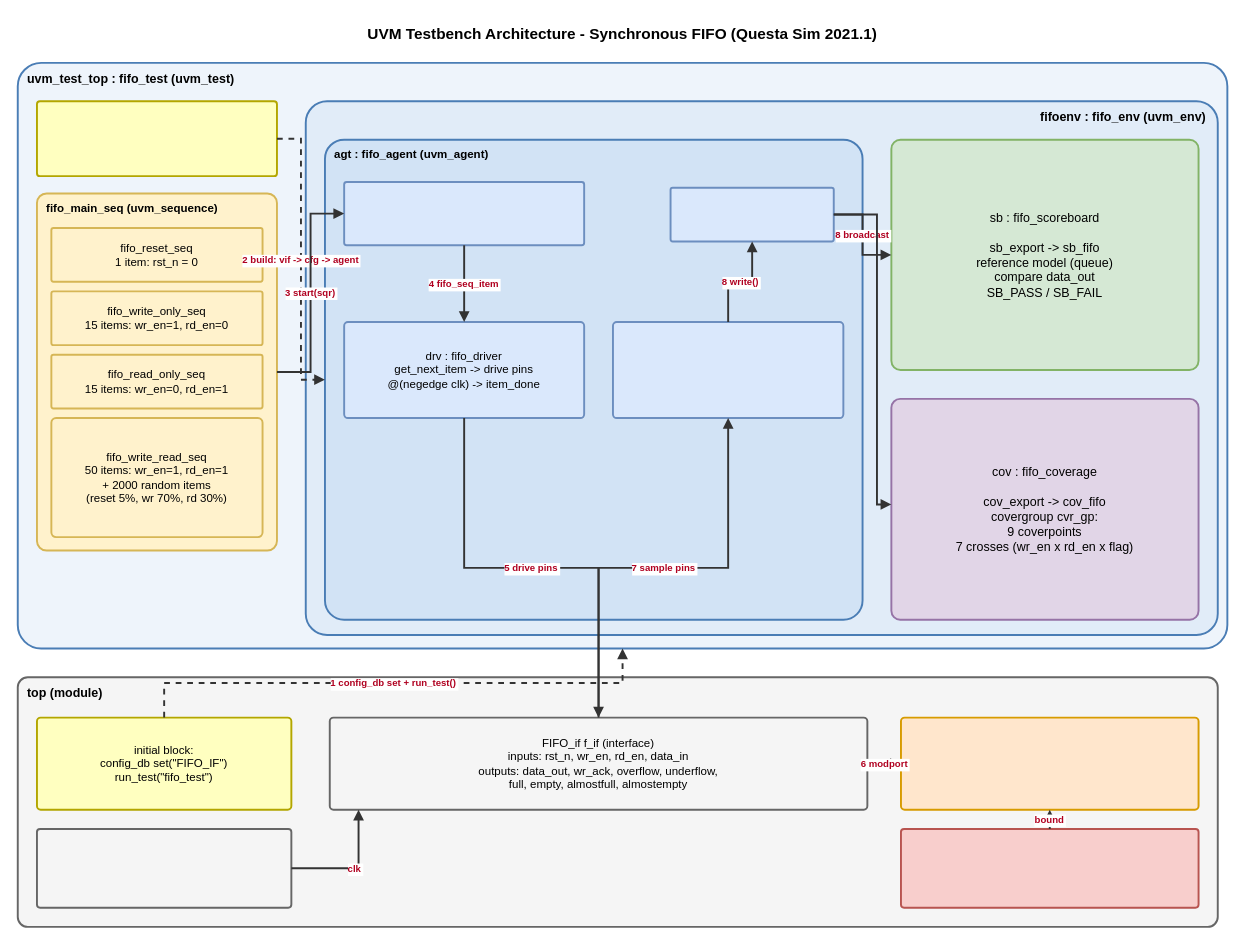
Image size: 1244x944. Some labels were removed from this diagram. The shapes that lost their labels are listed below. From the top down, each one's centre as x and y in pixels, then its label:
the point at 156,138: fifo_config (uvm_object) holds virtual FIFO_if
the point at 464,213: sqr : fifo_sequencer
the point at 751,214: agt_ap (analysis port)
the point at 728,370: mon : fifo_monitor @(negedge clk): sample pins mon_ap.write(item)
the point at 1049,763: FIFO DUT (FIFO.sv) FIFO_WIDTH = 16 FIFO_DEPTH = 8
the point at 164,868: clock generator forever #5 clk = ~clk
the point at 1049,868: fifo_assertions bound into the DUT (bind)
